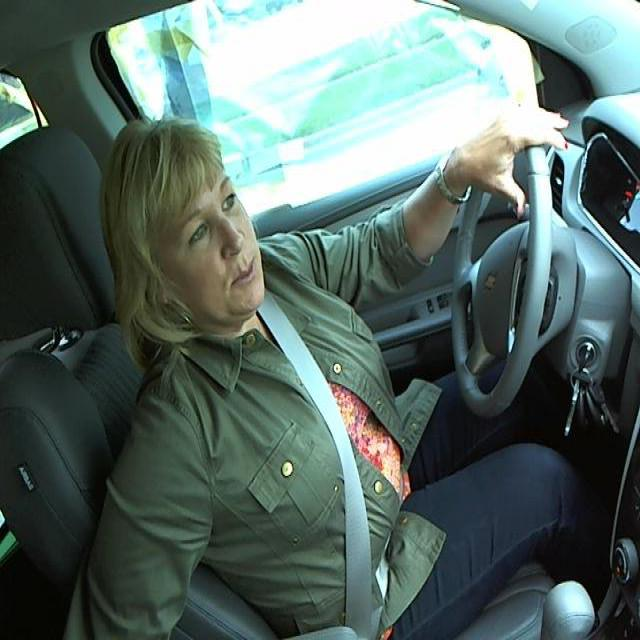seatbelt: (293, 336, 407, 623)
